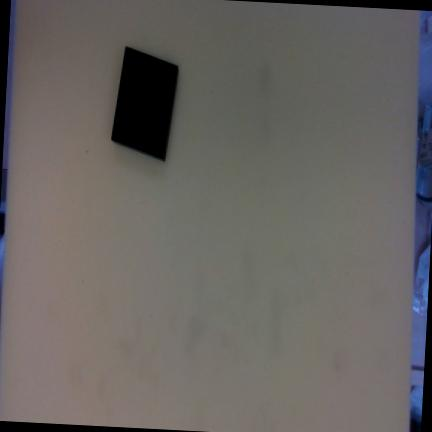tile: (108, 46, 181, 161)
